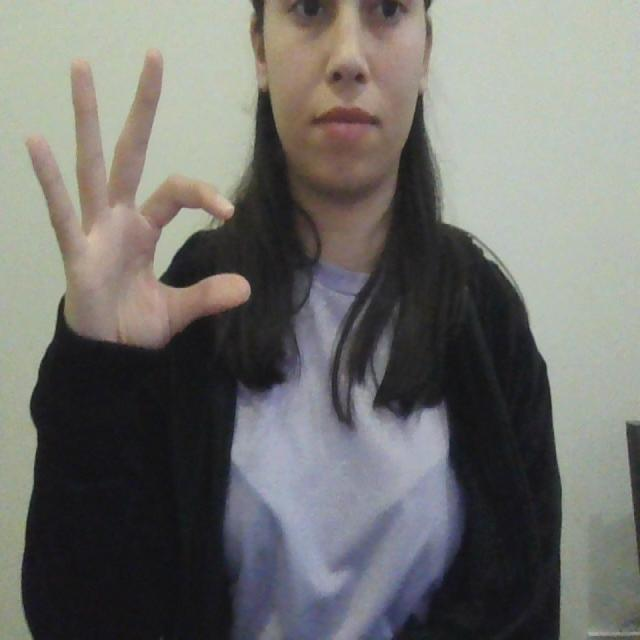Tuvalet: (21, 48, 253, 368)
